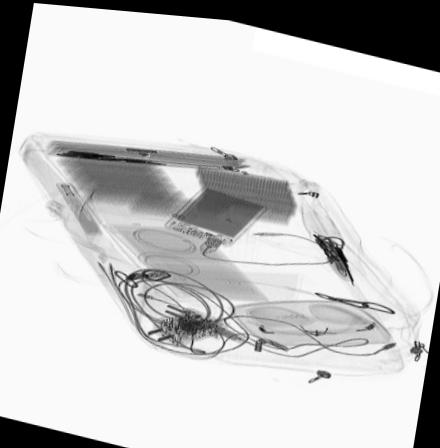Powerbank: (163, 179, 269, 240)
